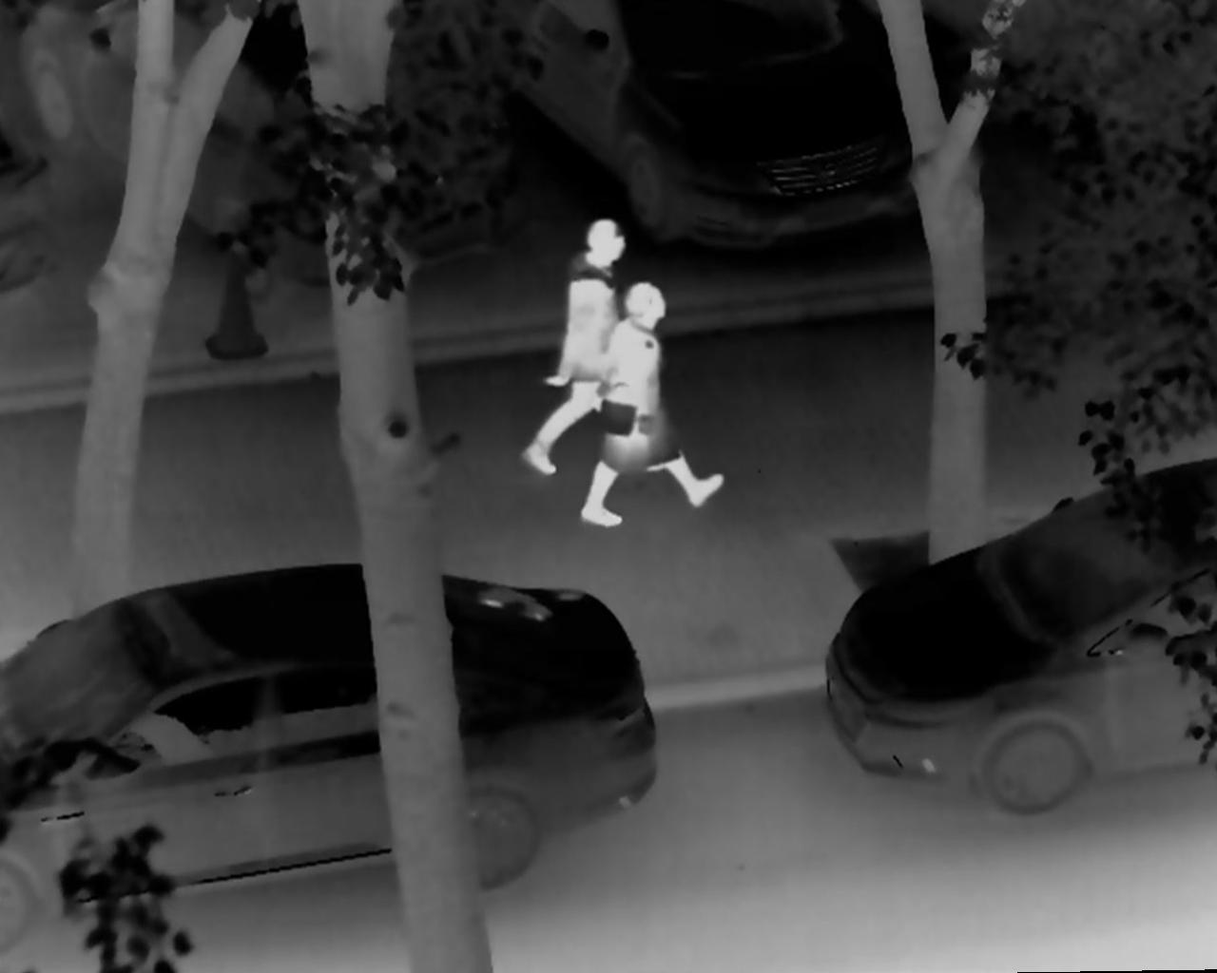person: (579, 281, 724, 530), (521, 214, 658, 476)
